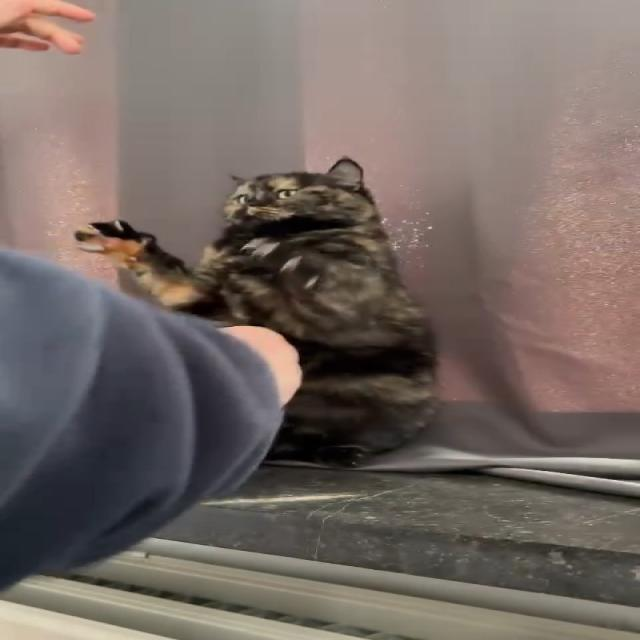authorized: (72, 155, 441, 468)
